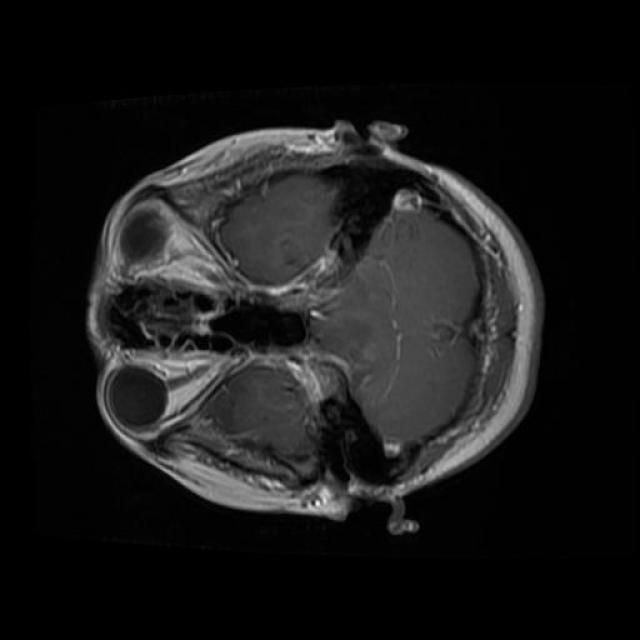Glioma: (181, 416, 346, 520)
